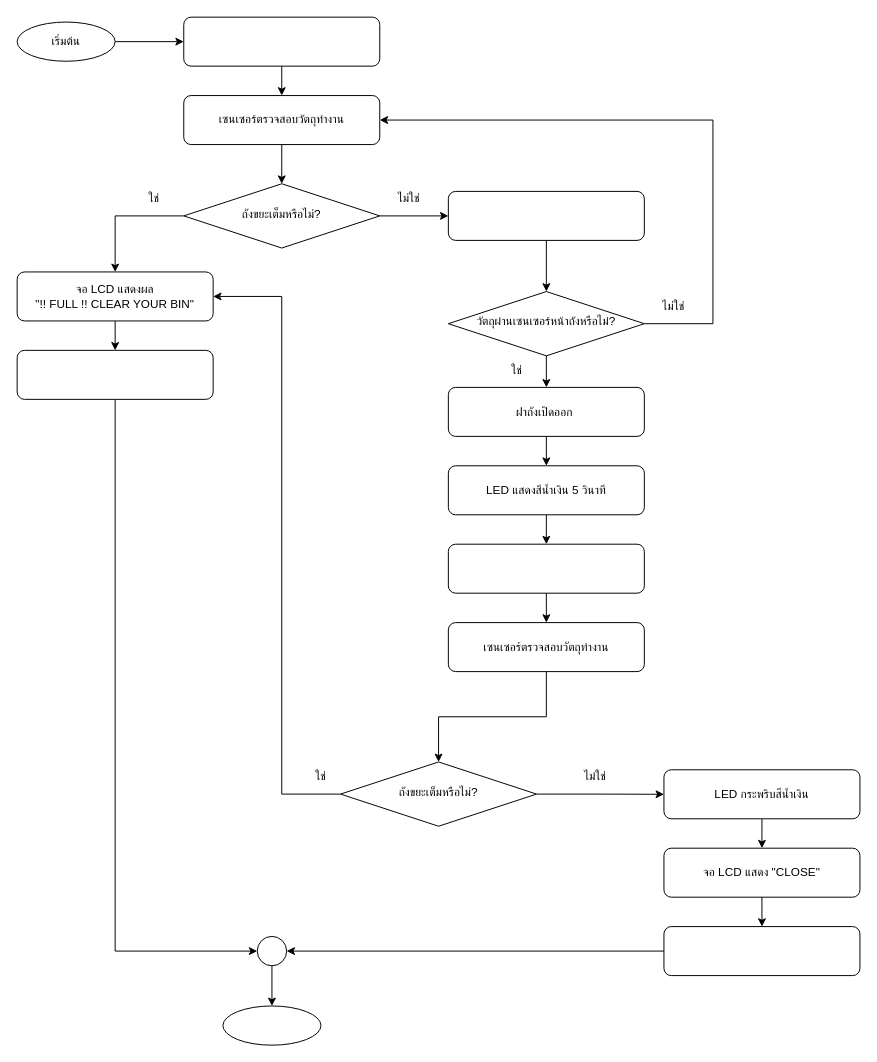
The diagram is 877 pixels wide and 1062 high, and some of its shapes have lost their labels. The shapes that lost their labels are listed below. From the top down, each one's centre as x and y in pixels, then its label:
point 281,41: จอ LCD แสดง "SMACK MY TRASH SMART BIN"
point 545,215: LED แสดงสีเขียว
point 114,374: LED ไฟกระพริบสีแดง
point 545,568: จอ LCD แสดงผล "CLOSING IN.. (นับถอยหลัง 5 ถึง 1)"
point 761,951: ฝาถังปิด
point 271,1025: สิ้นสุด
